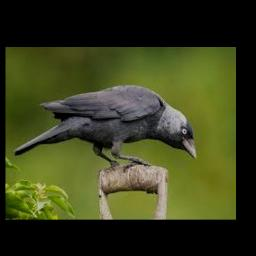Crow: (12, 84, 196, 172)
